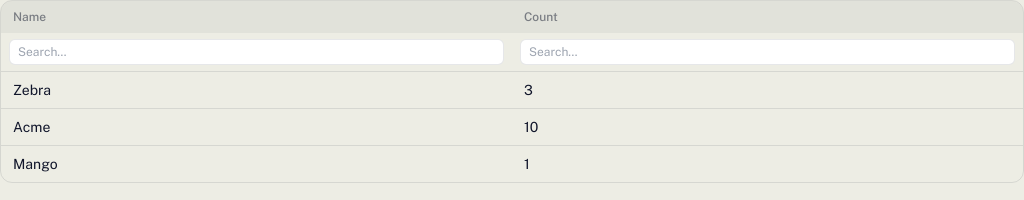
Test: DataTable › shows a distinct message when filters match nothing vs. when there's no data at all
The image size is (1024, 200).
Type "doesnotexist" into the field named "Filter Name" at [256, 52], box [9, 39, 504, 65]
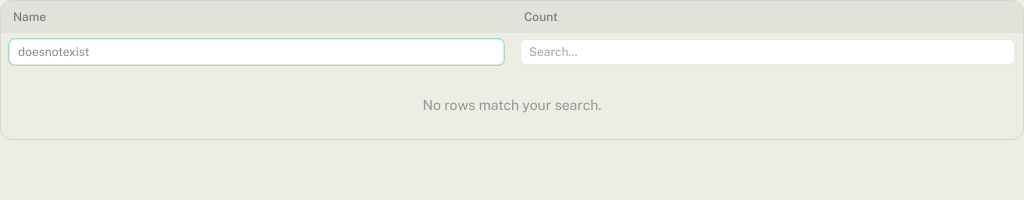
Now the text "No rows match your search." is shown, box [1, 71, 1023, 139]
